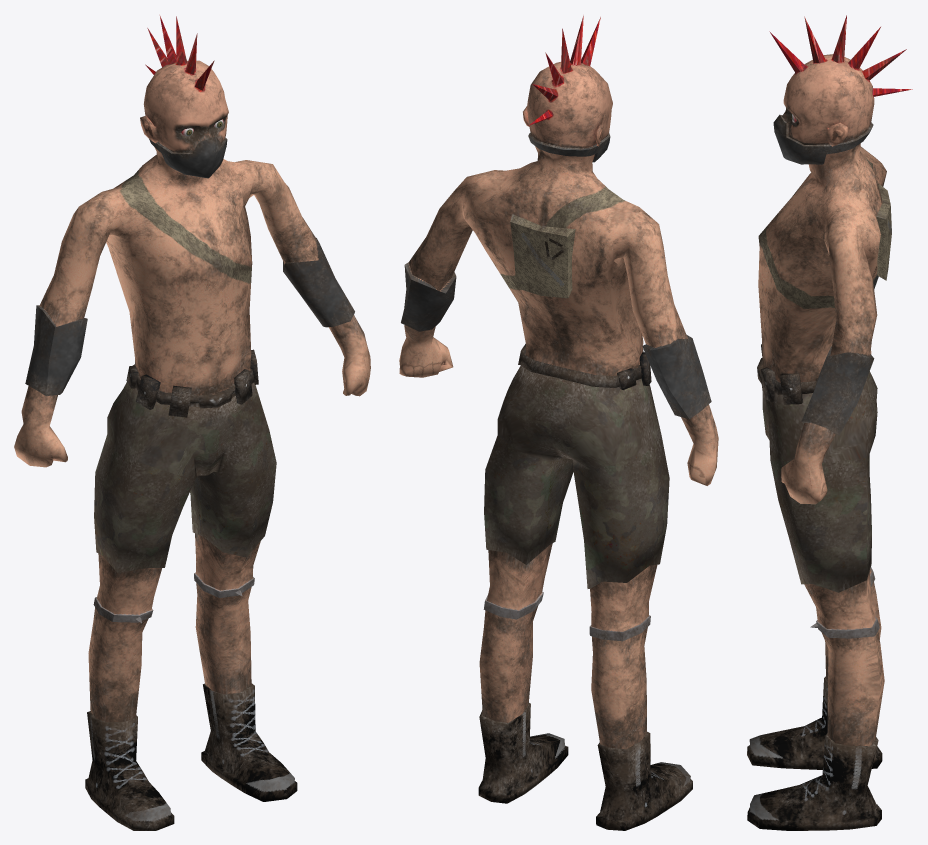
Rendered from Anim_idle_npc2.0015.obj.
3 renders of one model, left to right at view 1: azimuth 30°, elevation 25°; view 2: azimuth 150°, elevation 25°; view 3: azimuth 270°, elevation 25°, orthographic.
Parts seen in each view (by area): view 1: polySurface1; view 2: polySurface1; view 3: polySurface1.
Part boxes in pixels (x1,y1,x2,y2): polySurface1: (14, 15, 370, 830); polySurface1: (399, 15, 718, 830); polySurface1: (747, 15, 912, 830).
Bounding box in the file's own units: 4.65 × 10.18 × 1.98.
2 materials, 2 textured.
